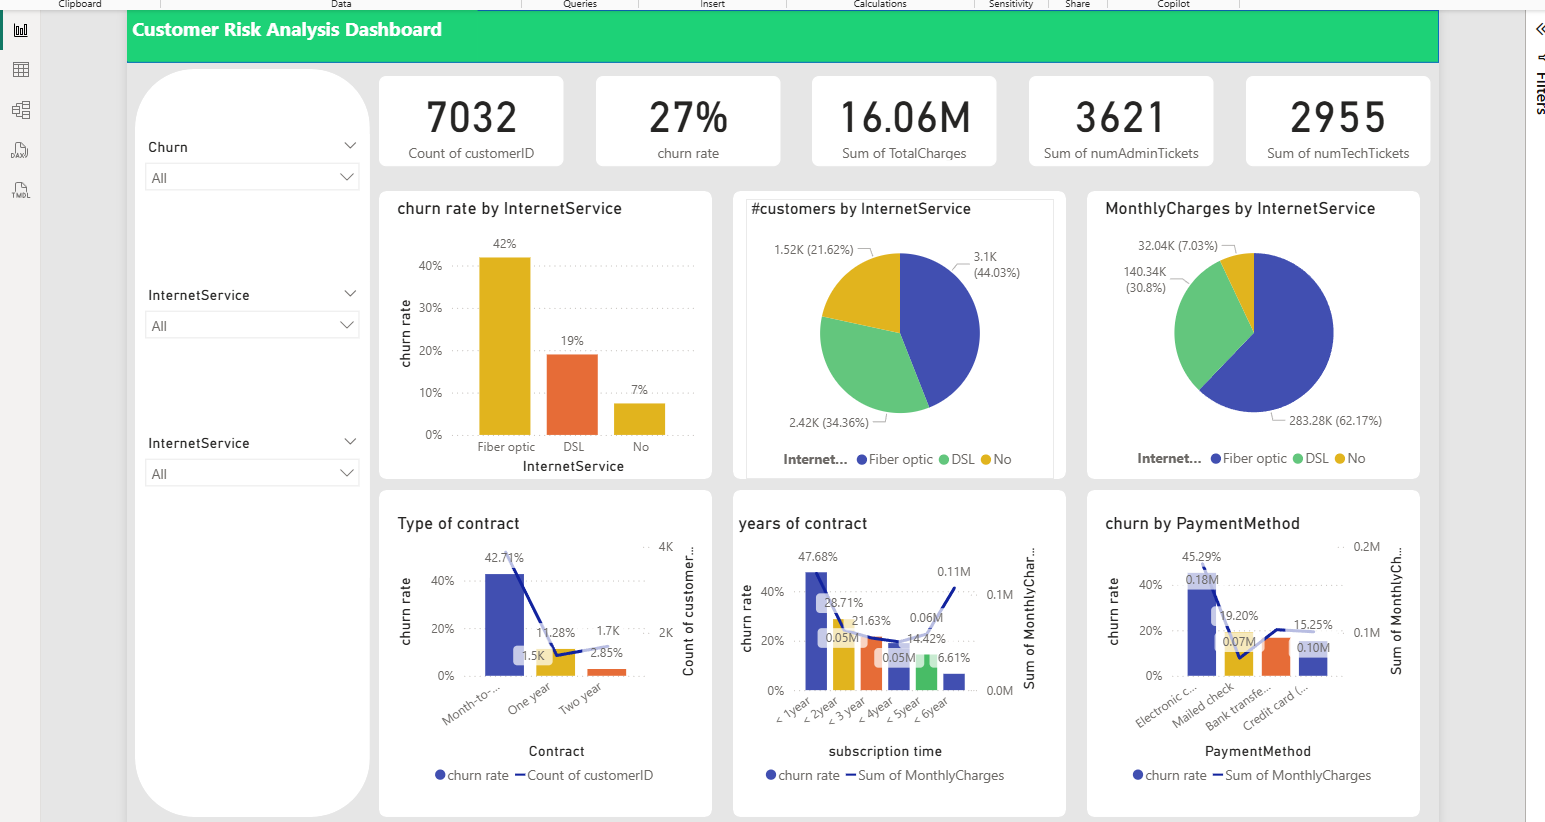

What the dashboard file says about the page in this screenshot:
{"tool":"powerbi","page":{"name":"Page 2","canvas":[1280,800],"ordinal":1},"visuals":[{"type":"group","id":"g1","title":"Group 1","box":[0,0,1280,51.6],"z":0},{"type":"shape","box":[7.8,57.6,229.3,729.8],"z":1000,"group":"g3"},{"type":"card","title":"ewr","fields":{"Values":["CountNonNull(01 Churn-Dataset.customerID)"]},"box":[245.6,64.7,180,87.8],"z":2000},{"type":"card","fields":{"Values":["01 Churn-Dataset.churn rate"]},"box":[457.1,64.7,180,87.8],"z":3000},{"type":"card","fields":{"Values":["Sum(01 Churn-Dataset.TotalCharges)"]},"box":[668.6,64.7,180,87.8],"z":4000},{"type":"card","fields":{"Values":["Sum(01 Churn-Dataset.numAdminTickets)"]},"box":[880,64.7,180,87.8],"z":5000},{"type":"shape","title":"customer churn dashboard","box":[0,0,1280,51.6],"z":6000,"group":"g2"},{"type":"card","fields":{"Values":["Sum(01 Churn-Dataset.numTechTickets)"]},"box":[1091.5,64.7,180,87.8],"z":6000},{"type":"textbox","box":[0,0,342.3,49.7],"z":7000,"group":"g2"},{"type":"shape","box":[245.9,176.6,324.9,281],"z":7000},{"type":"group","id":"g2","title":"Group 2","box":[0,0,1280,51.6],"z":7002,"group":"g1"},{"type":"shape","box":[591.2,176.6,324.9,281],"z":8000},{"type":"shape","box":[936.6,176.6,324.9,281],"z":9000},{"type":"shape","box":[245.9,468.3,324.9,319],"z":10000},{"type":"shape","box":[591.2,468.3,324.9,319],"z":11000},{"type":"shape","box":[936.6,468.3,324.9,319],"z":12000},{"type":"columnChart","fields":{"Category":["01 Churn-Dataset.InternetService"],"Y":["01 Churn-Dataset.churn rate"]},"box":[258.5,183.4,300.5,274.1],"z":13000},{"type":"pieChart","title":"#customers by InternetService","fields":{"Category":["01 Churn-Dataset.InternetService"],"Y":["CountNonNull(01 Churn-Dataset.customerID)"]},"box":[603.9,184.4,300.5,273.2],"z":14000},{"type":"pieChart","title":"MonthlyCharges by InternetService","fields":{"Category":["01 Churn-Dataset.InternetService"],"Y":["Sum(01 Churn-Dataset.MonthlyCharges)"]},"box":[949.3,183.4,300.5,273.2],"z":15000},{"type":"lineStackedColumnComboChart","title":"Type of contract","fields":{"Category":["01 Churn-Dataset.Contract"],"Y":["01 Churn-Dataset.churn rate"],"Y2":["CountNonNull(01 Churn-Dataset.customerID)"]},"box":[258.5,490.7,300.5,274.1],"z":16000},{"type":"lineStackedColumnComboChart","title":"years of contract","fields":{"Y":["01 Churn-Dataset.churn rate"],"Category":["01 Churn-Dataset.subscription time"],"Y2":["Sum(01 Churn-Dataset.MonthlyCharges)"]},"box":[591.2,490.7,300.5,274.1],"z":17000},{"type":"lineStackedColumnComboChart","title":"churn by PaymentMethod","fields":{"Y":["01 Churn-Dataset.churn rate"],"Category":["01 Churn-Dataset.PaymentMethod"],"Y2":["Sum(01 Churn-Dataset.MonthlyCharges)"]},"box":[949.3,490.7,300.5,274.1],"z":18000},{"type":"slicer","fields":{"Values":["01 Churn-Dataset.Churn"]},"box":[7.8,121,229.3,144.4],"z":19000,"group":"g3"},{"type":"slicer","fields":{"Values":["01 Churn-Dataset.InternetService"]},"box":[7.8,265.4,229.3,144.4],"z":20000,"group":"g3"},{"type":"slicer","fields":{"Values":["01 Churn-Dataset.InternetService"]},"box":[7.8,409.8,229.3,144.4],"z":21000,"group":"g3"},{"type":"group","id":"g3","title":"Group 3","box":[7.8,57.6,229.3,729.8],"z":21001}]}

Visuals, with their boxes on the page's 1280x800 design canvas (x1, y1, x2, y2). These are canvas units, not pixel positions in the 1545x822 screenshot, which may show the page scaled, cropped or inside an application window:
"Group 1" group: 0:0:1280:52
shape: 8:58:237:787
"ewr" card: 246:65:426:152
card - 01 Churn-Dataset.churn rate: 457:65:637:152
card - Sum(01 Churn-Dataset.TotalCharges): 669:65:849:152
card - Sum(01 Churn-Dataset.numAdminTickets): 880:65:1060:152
"customer churn dashboard" shape: 0:0:1280:52
card - Sum(01 Churn-Dataset.numTechTickets): 1092:65:1272:152
textbox: 0:0:342:50
shape: 246:177:571:458
"Group 2" group: 0:0:1280:52
shape: 591:177:916:458
shape: 937:177:1262:458
shape: 246:468:571:787
shape: 591:468:916:787
shape: 937:468:1262:787
columnChart - 01 Churn-Dataset.InternetService x 01 Churn-Dataset.churn rate: 258:183:559:458
"#customers by InternetService" pieChart: 604:184:904:458
"MonthlyCharges by InternetService" pieChart: 949:183:1250:457
"Type of contract" lineStackedColumnComboChart: 258:491:559:765
"years of contract" lineStackedColumnComboChart: 591:491:892:765
"churn by PaymentMethod" lineStackedColumnComboChart: 949:491:1250:765
slicer - 01 Churn-Dataset.Churn: 8:121:237:265
slicer - 01 Churn-Dataset.InternetService: 8:265:237:410
slicer - 01 Churn-Dataset.InternetService: 8:410:237:554
"Group 3" group: 8:58:237:787
